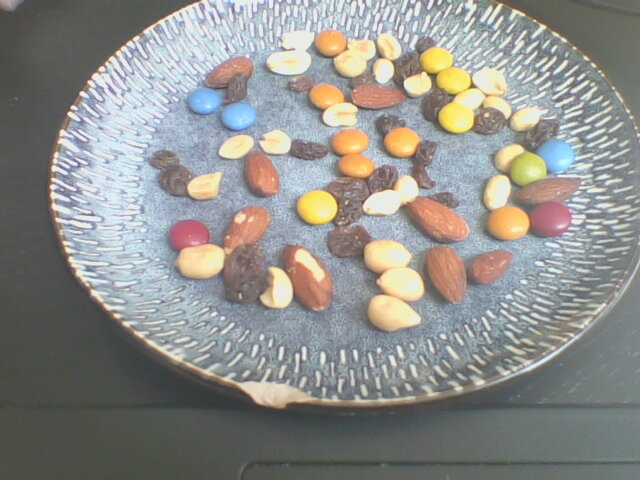almond: (281, 245, 336, 315), (404, 196, 470, 242), (425, 246, 468, 306), (512, 175, 583, 206), (222, 206, 271, 245), (241, 150, 280, 197), (464, 250, 514, 286), (350, 82, 407, 109), (205, 56, 253, 88), (362, 189, 405, 216), (332, 188, 365, 223), (394, 174, 416, 204)
mm: (526, 202, 574, 236), (486, 206, 531, 240), (297, 190, 338, 224), (509, 152, 547, 185), (536, 140, 574, 172), (384, 126, 421, 157), (171, 220, 209, 250), (439, 101, 474, 133), (221, 101, 258, 130), (329, 128, 368, 155), (186, 87, 221, 116), (308, 82, 345, 108), (436, 66, 470, 92), (422, 45, 453, 73), (340, 154, 376, 177), (316, 28, 345, 56)
peanut: (364, 294, 422, 332), (175, 243, 227, 277), (365, 239, 413, 272), (376, 269, 425, 301), (259, 265, 294, 309), (472, 66, 508, 97), (267, 51, 312, 74), (187, 170, 221, 200), (494, 142, 526, 172), (332, 52, 368, 78), (484, 176, 512, 209), (452, 86, 484, 112), (218, 134, 254, 157), (258, 130, 291, 155), (323, 102, 358, 125), (509, 106, 539, 132), (483, 95, 512, 120), (281, 30, 314, 49), (377, 32, 401, 57), (373, 56, 394, 84), (346, 38, 375, 58)
raisin: (223, 246, 269, 298), (327, 226, 371, 256), (523, 118, 558, 151), (327, 174, 371, 200), (156, 166, 195, 193), (368, 164, 399, 196), (470, 107, 507, 133), (423, 87, 451, 121), (287, 139, 326, 162), (394, 54, 421, 81), (415, 139, 439, 169), (227, 73, 248, 103), (150, 149, 177, 168), (379, 114, 406, 133), (289, 75, 313, 93), (415, 167, 437, 186), (429, 193, 457, 206), (415, 35, 435, 51)
